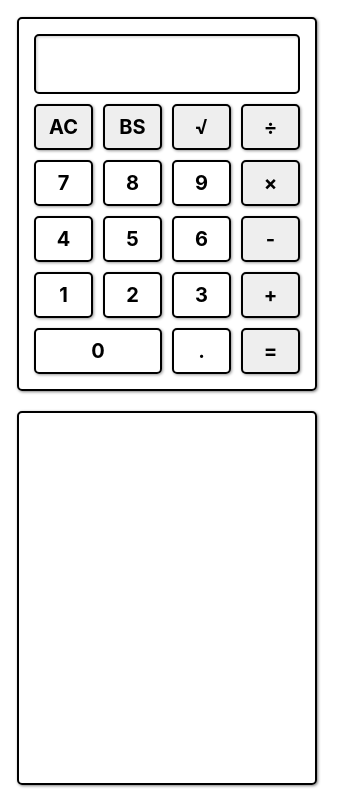
it: 계산기 테스트 › 16 ÷ 4 == 4
Expected: the element with test id "display" is empty, [34,34,300,94]
Click the button "1": (64, 295) [34,272,93,318]
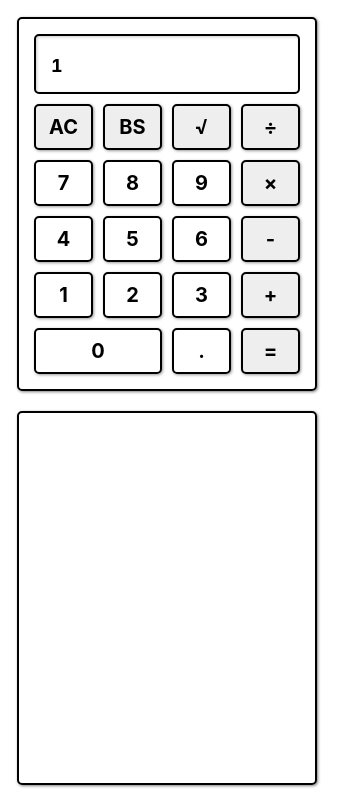
Click the button "6": (202, 239) [172,216,231,262]
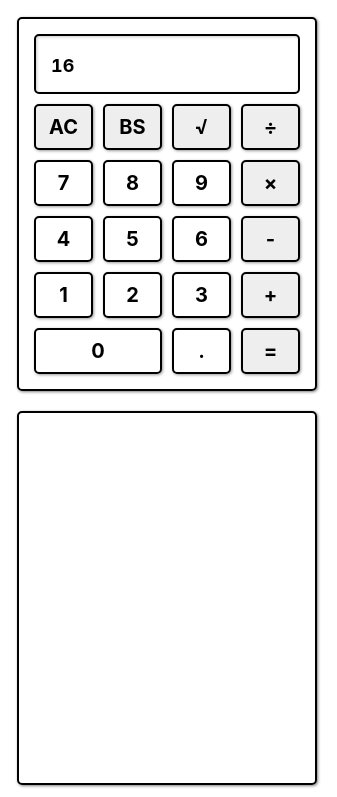
Click the button "÷": (270, 127) [241,104,300,150]
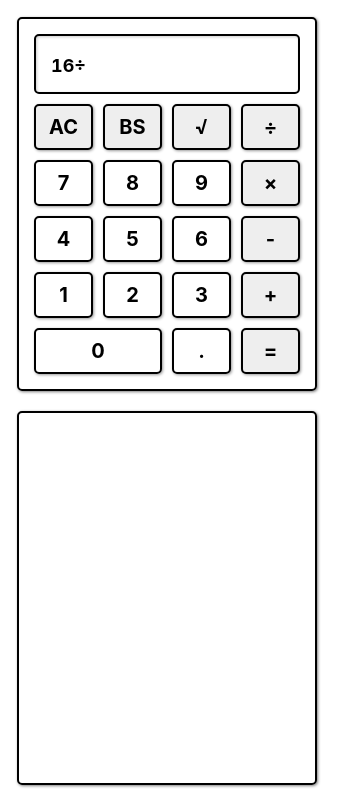
Click the button "4": (64, 239) [34,216,93,262]
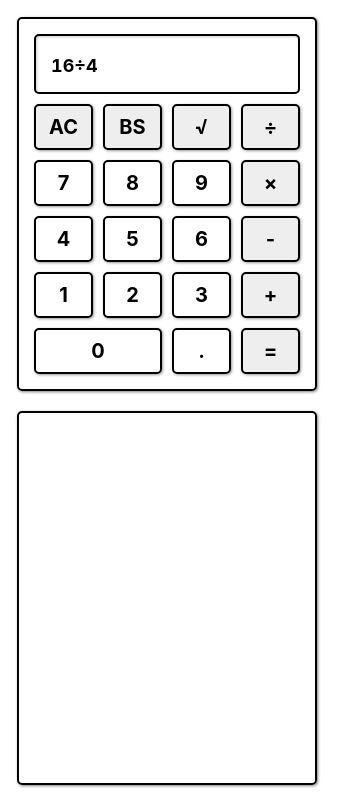
Expected: the text with test id "display" reads "16÷4", [51,55,98,76]
Click the button "=": (270, 351) [241,328,300,374]
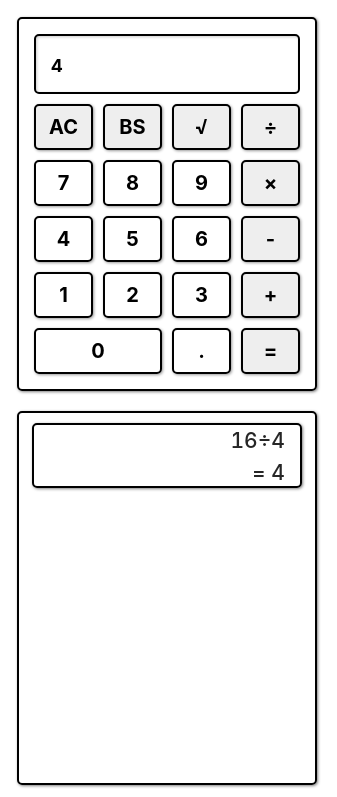
Expected: the text with test id "display" reads "4", [51,55,63,76]
